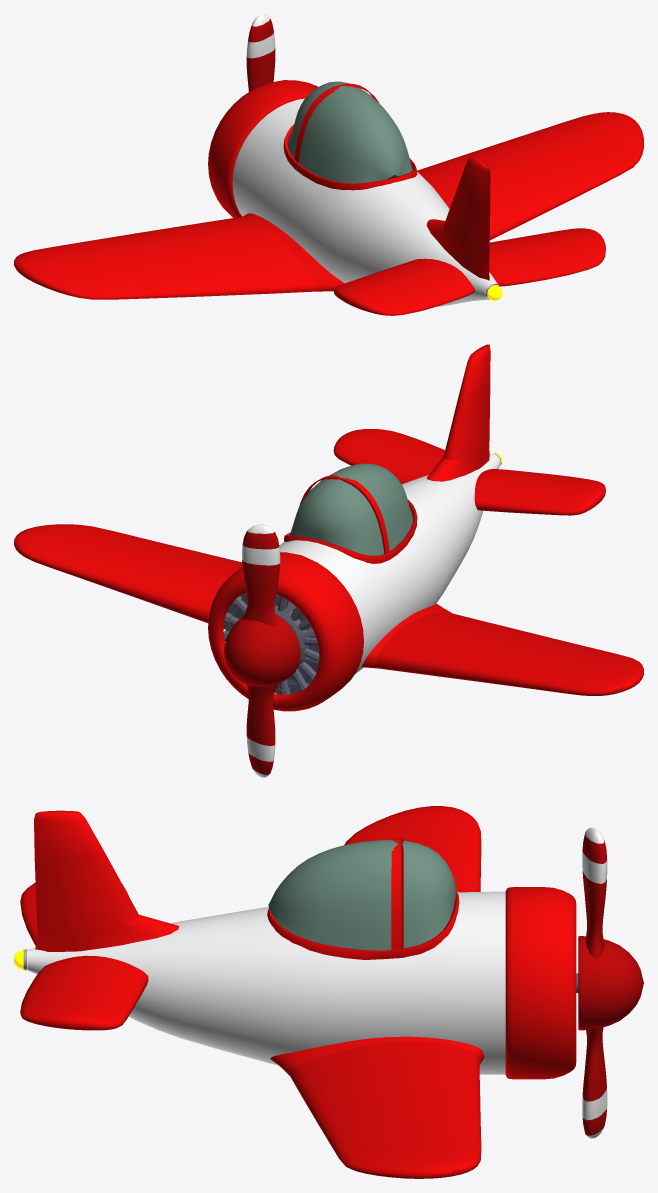
The picture shows the model from 3 angles, top to bottom: view 1: azimuth 30°, elevation 25°; view 2: azimuth 150°, elevation 25°; view 3: azimuth 270°, elevation 25°; orthographic projection. The views are drawn at different scales.
Visible parts, largest first — view 1: body, propeller; view 2: body, propeller, engine; view 3: body, propeller.
Part boxes in pixels (x1,y1,x2,y2): body: (14,80,643,315); propeller: (246,14,275,91); body: (14,344,643,711); propeller: (224,524,300,777); engine: (223,593,319,694); body: (14,806,576,1178); propeller: (576,827,643,1138).
Bounding box in the file's own units: 9.36 × 3.88 × 6.79.
